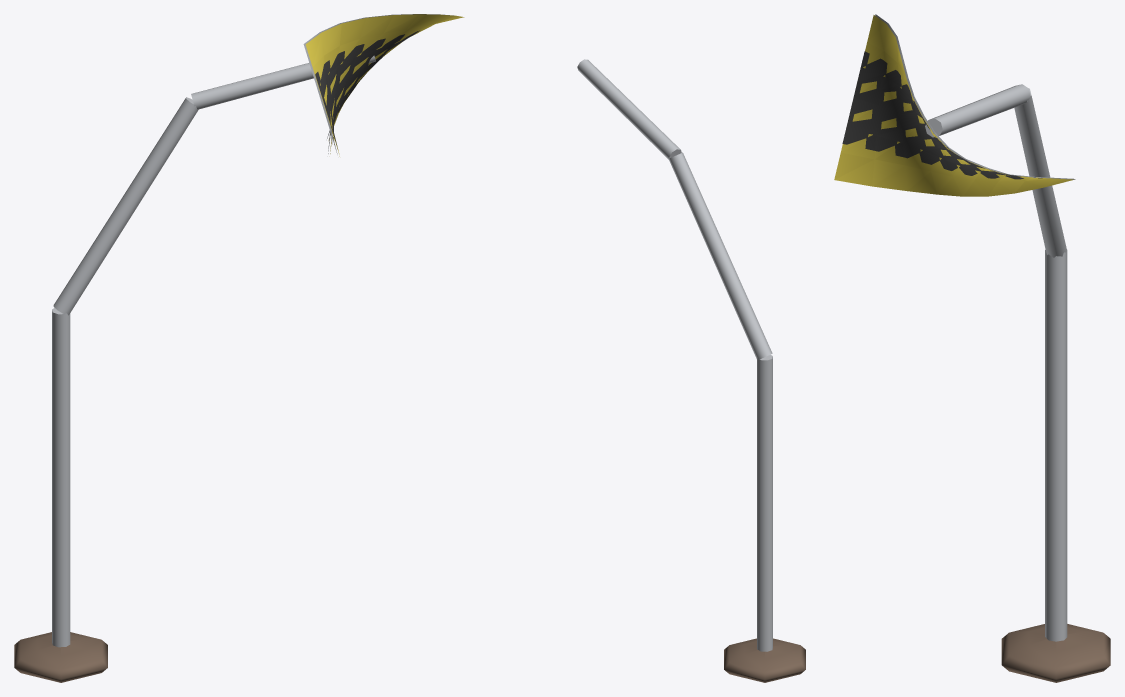
File: storm_sign_twisted_a.glb
3 views of the same model, side by side, from view 1: azimuth 30°, elevation 25°; view 2: azimuth 150°, elevation 25°; view 3: azimuth 270°, elevation 25° (orthographic). The views are drawn at different scales.
Parts seen in each view (by area): view 1: body; view 2: body; view 3: body.
Boxes of the visible parts, x1=… form: body: x1=14, y1=14, x2=464, y2=682; body: x1=577, y1=59, x2=805, y2=682; body: x1=834, y1=14, x2=1110, y2=682.
Size of the model in its own units: 1.55 by 2.37 by 0.7911.
